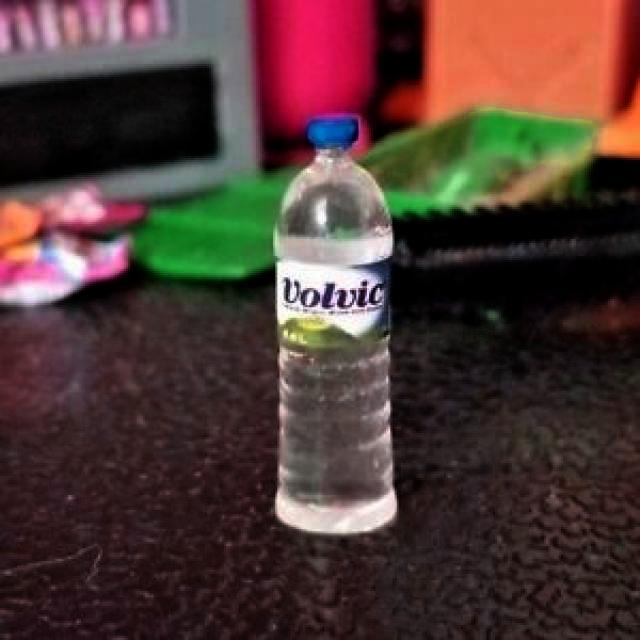bottle: (273, 114, 398, 536)
